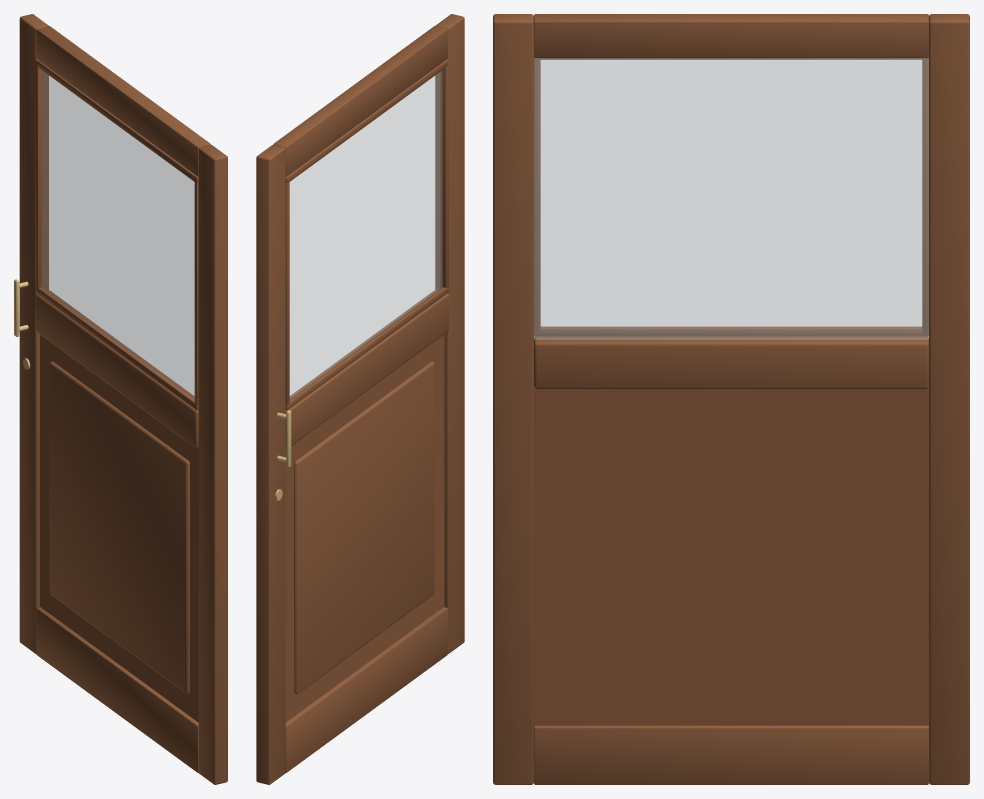
File: servant_door_a.glb
The picture shows the model from 3 angles, left to right: view 1: azimuth 30°, elevation 25°; view 2: azimuth 150°, elevation 25°; view 3: azimuth 270°, elevation 25°; orthographic projection. The views are drawn at different scales.
Visible parts, largest first — view 1: DoorA; view 2: DoorA; view 3: DoorA.
Part boxes in pixels (x1,y1,x2,y2): DoorA: [14, 14, 227, 784]; DoorA: [256, 14, 464, 784]; DoorA: [493, 14, 969, 784].
Bounding box in the file's own units: 0.064 × 1.45 × 0.82.
